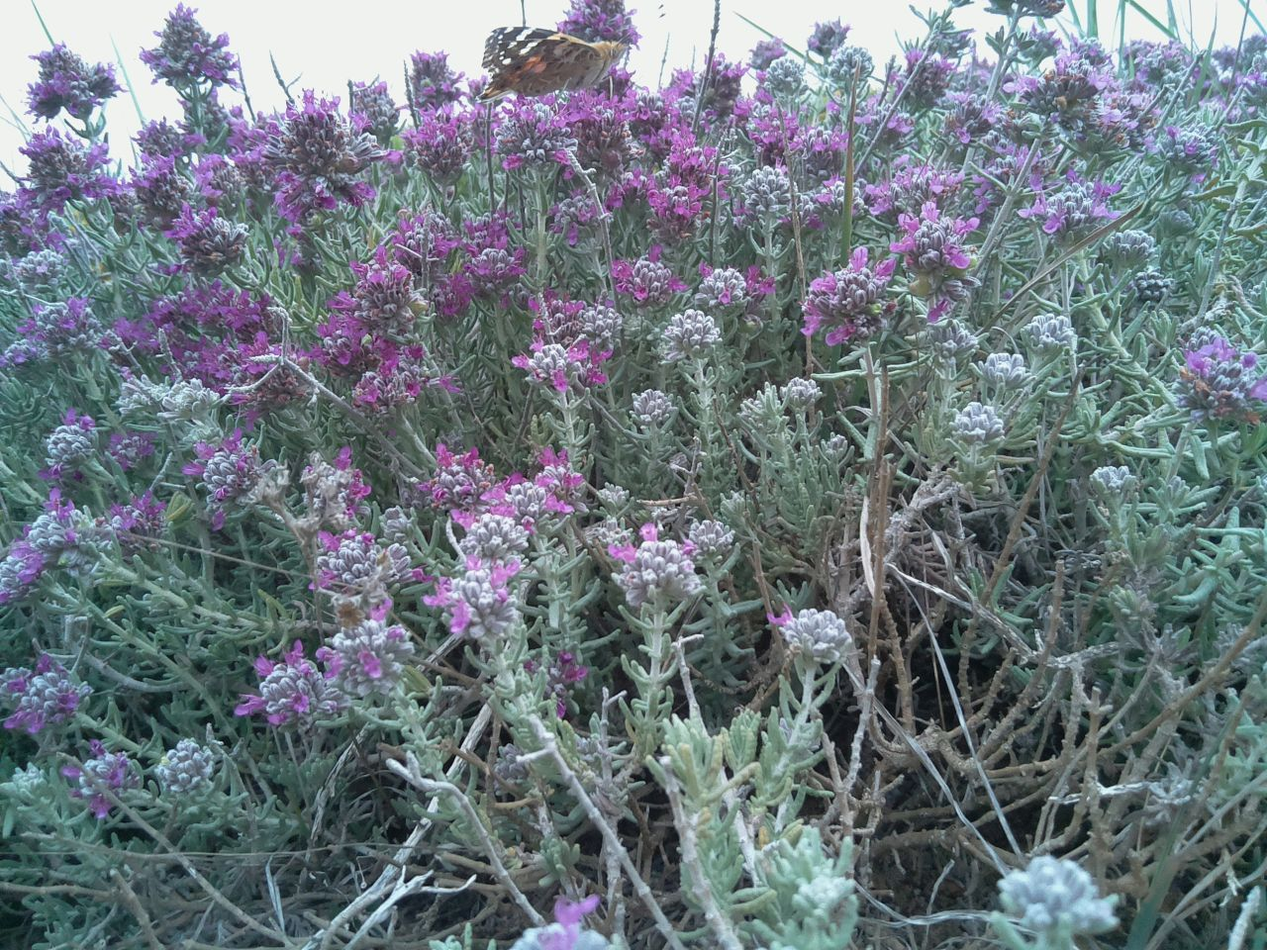Vanessa cardui: (465, 3, 703, 107)
